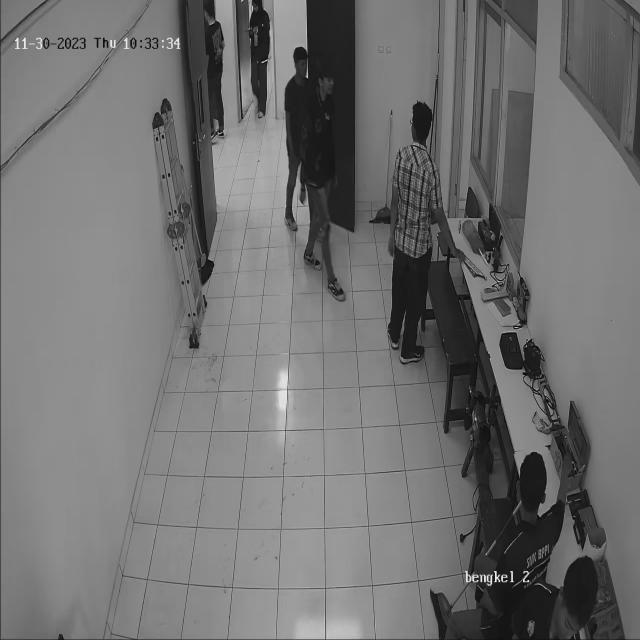person: (284, 41, 343, 304), (388, 78, 436, 368)
